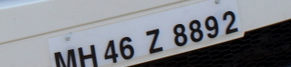2: (221, 10, 239, 35)
4: (102, 39, 119, 63)
6: (118, 36, 135, 60)
8: (171, 23, 188, 47), (187, 19, 204, 43)
9: (203, 15, 220, 39)
H: (76, 45, 99, 67)
M: (53, 49, 76, 67)
Z: (144, 28, 165, 55)
